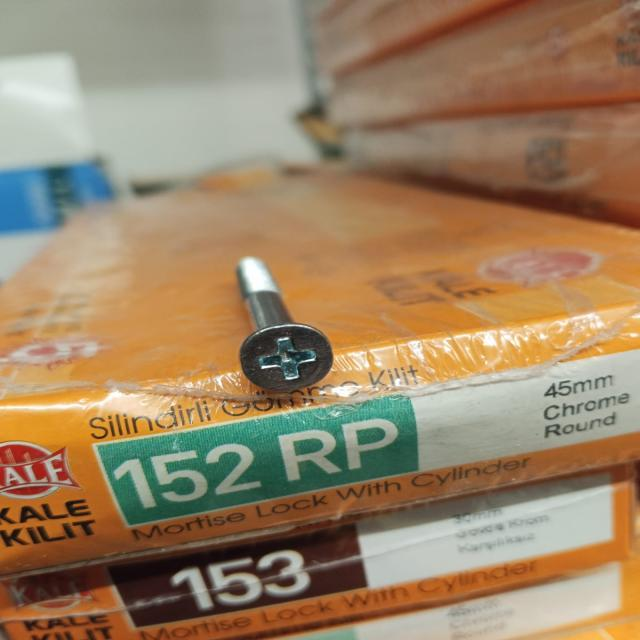phillips: (238, 325, 334, 393)
